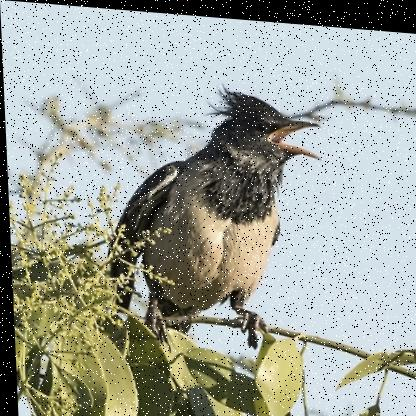Burung: (109, 81, 331, 351)
